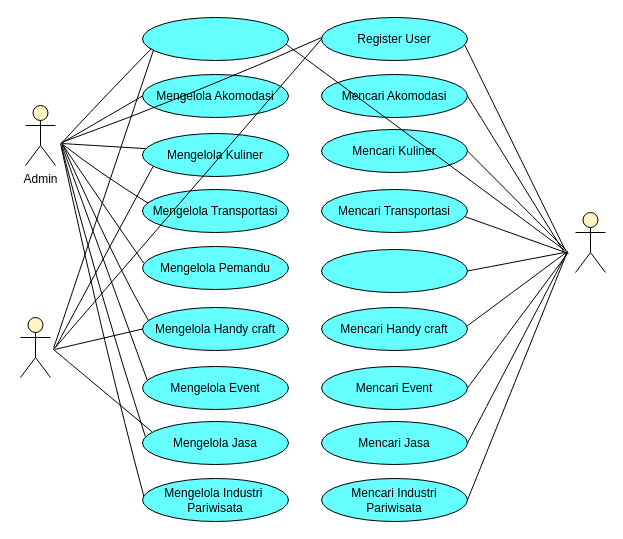
Image size: 623x539. Some labels were removed from this diagram. The centre of each missing label's shape, as x and y in pixels:
"Login" belongs at pixel 215 38.
"Mencari Pemandu" belongs at pixel 394 270.
"UMKM" belongs at pixel 35 347.
"User" belongs at pixel 590 242.
